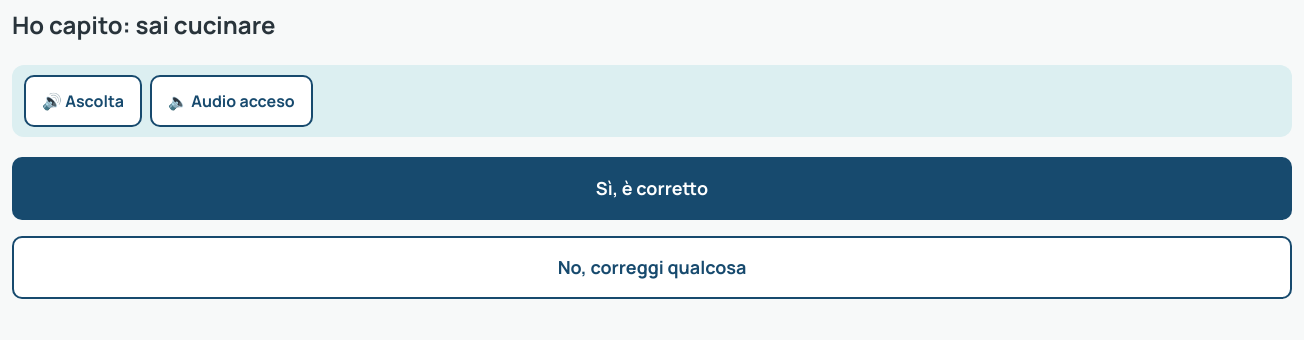
Test: confirm branch shows read-aloud but no Parla; correcting branch enables Parla
The width and height of the screenshot is (1304, 340).
Expected: the button "🔊 Ascolta" is shown, [24, 75, 142, 127]
Expected: the button "Parla" is not shown
Click the button "No, correggi qualcosa": (652, 268) [12, 236, 1292, 299]
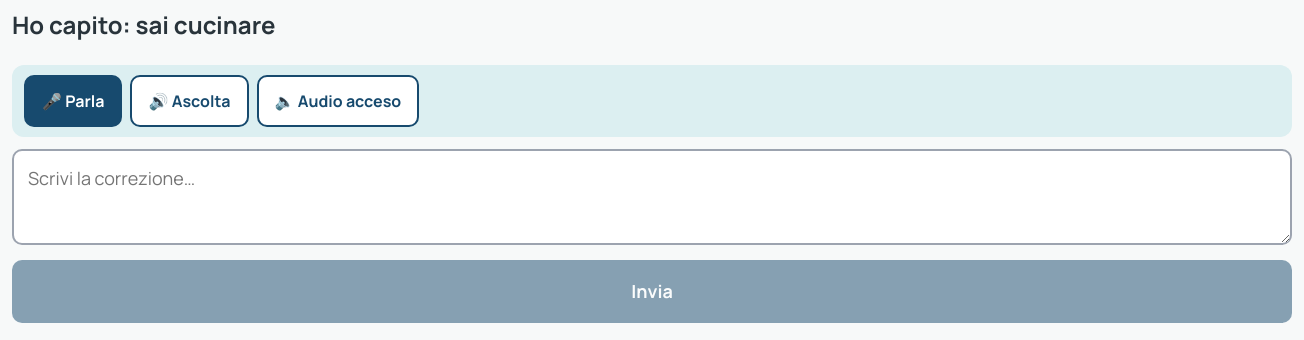
Now the button "🎤 Parla" is shown, box [24, 75, 122, 127]
